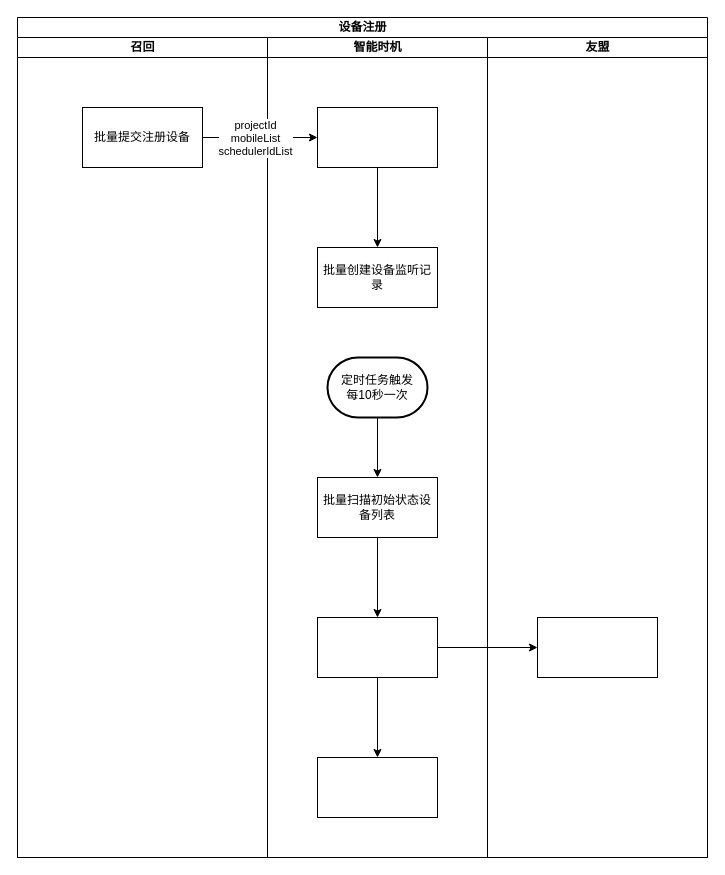
This 725x875 diagram has some shape labels left out. Here are the shapes that lost their labels. From the top down, the centre of each, then its label:
At [377,137]: "从缓存获取 ProjectAndTask".
At [377,647]: "调用3方批量注册接口".
At [597,647]: "注册设备".
At [377,787]: "批量更新状态-已提交".
